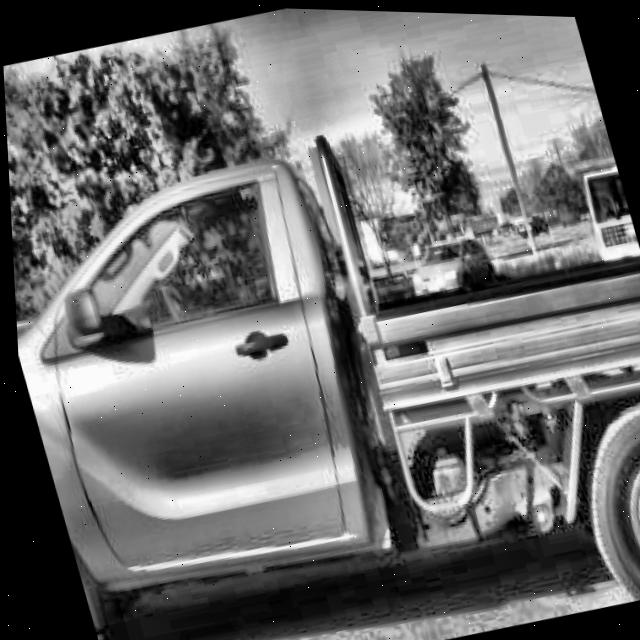light_vehicle: (2, 55, 640, 640)
